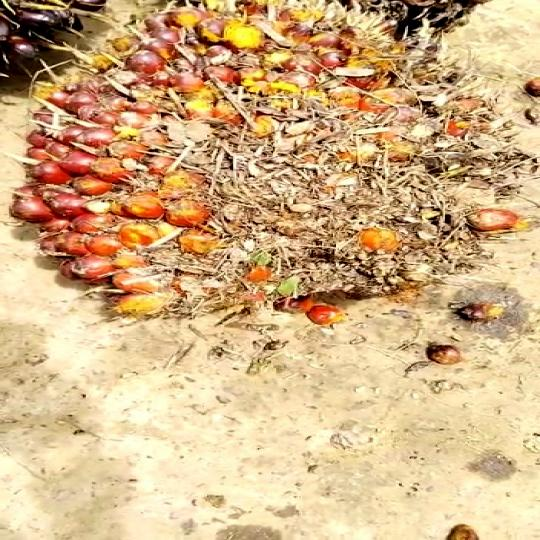masak: (16, 0, 534, 336)
